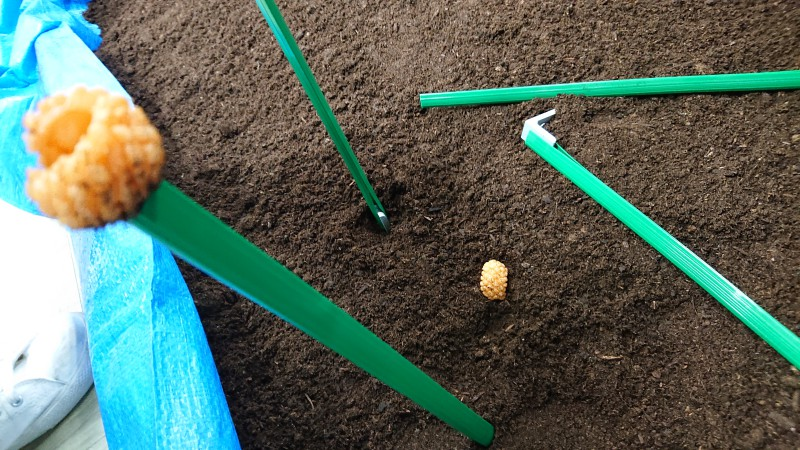eggs: (21, 87, 166, 227), (476, 256, 510, 305)
